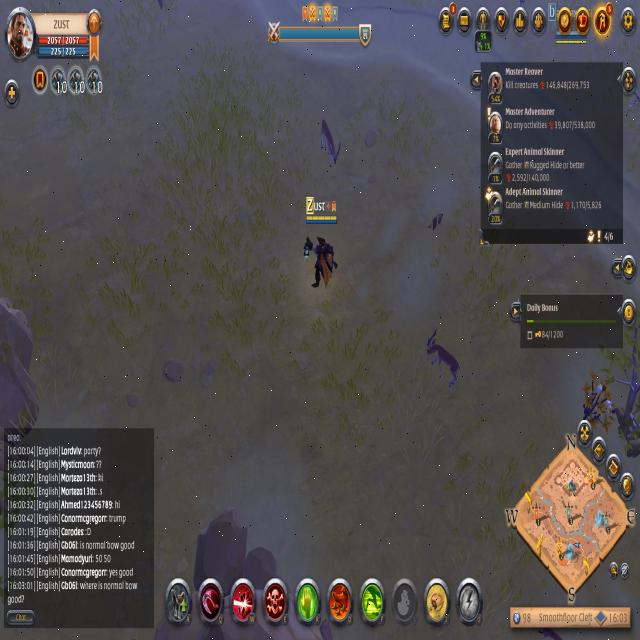deer_alive: (424, 324, 466, 401), (315, 111, 344, 176)
